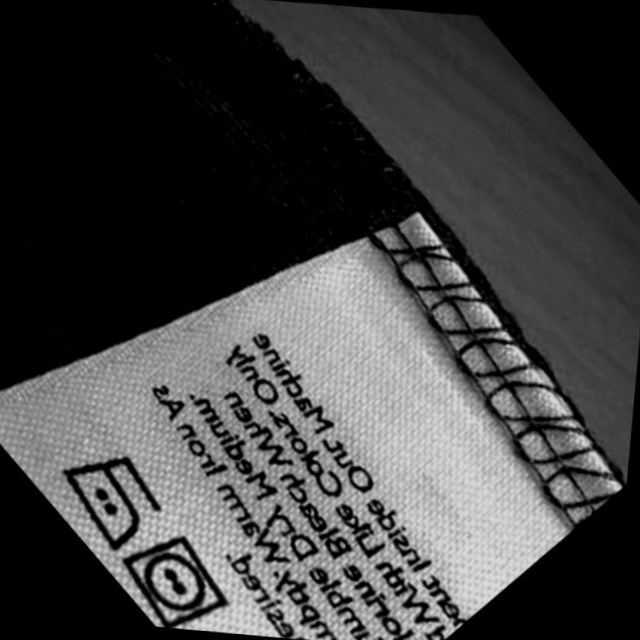iron_medium: (50, 449, 164, 551)
tumble_dry_medium: (114, 532, 232, 631)
